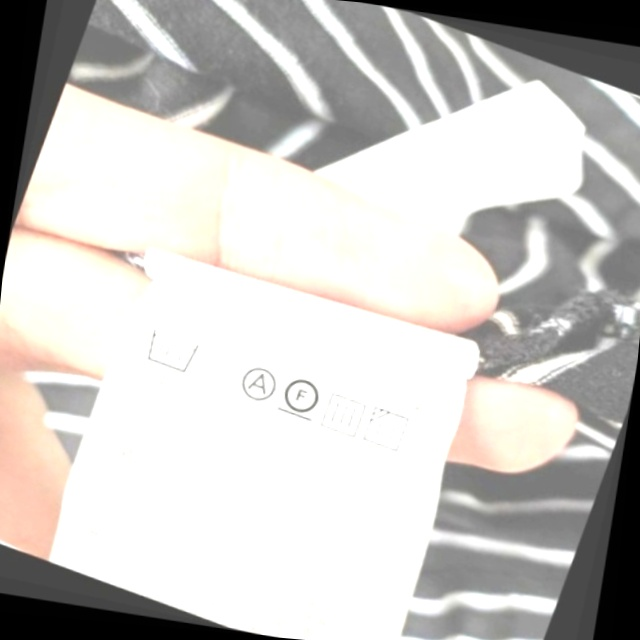95C: (138, 322, 207, 379)
bleach: (193, 341, 241, 394)
drip_dry: (316, 386, 373, 442)
drip_dry_in_shade: (359, 401, 418, 459)
dry_clean: (233, 359, 283, 407)
dry_clean_petrol_only: (275, 367, 329, 426)
